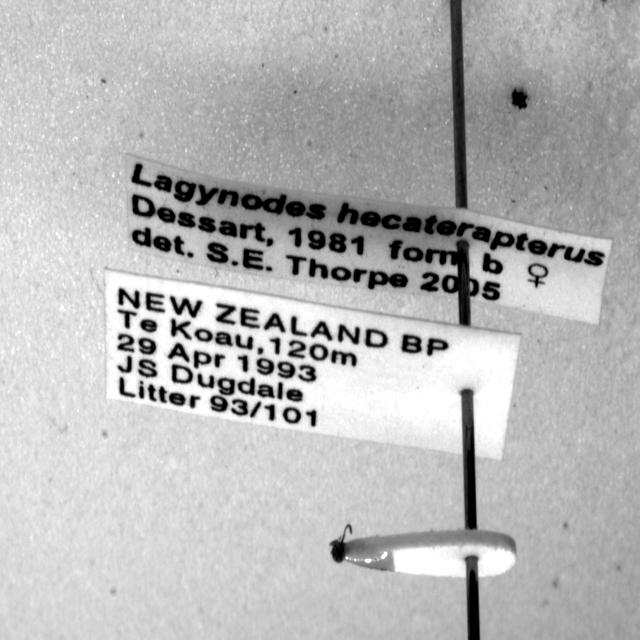typed_label: (126, 156, 611, 324), (105, 270, 520, 459)
